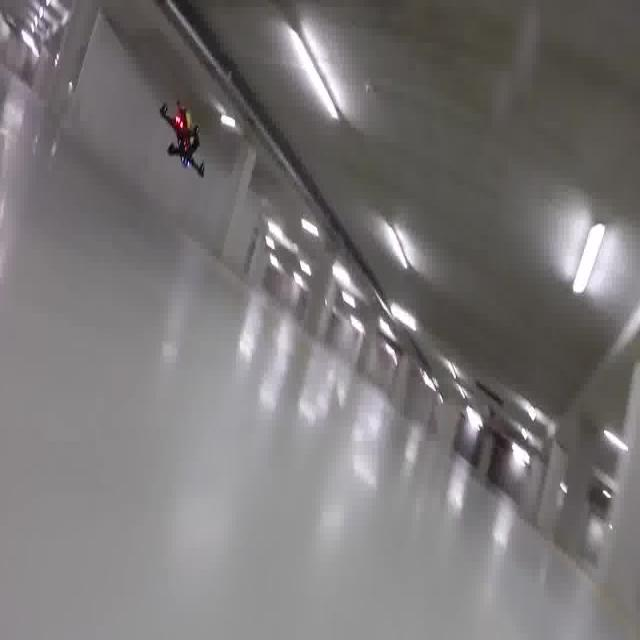drone: (161, 89, 207, 182)
